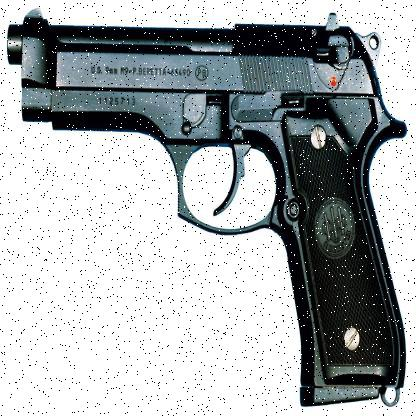pistol: (7, 7, 406, 407)
